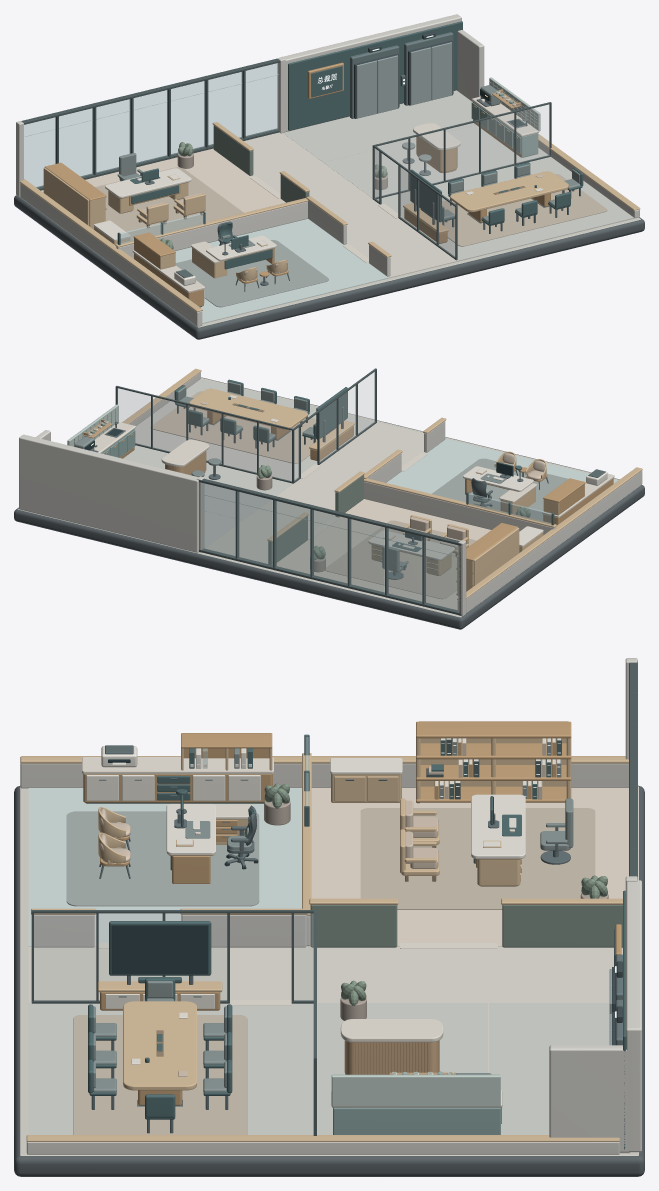
The model's file is executive.glb.
3 views of the same model, one above another, from view 1: azimuth 30°, elevation 25°; view 2: azimuth 150°, elevation 25°; view 3: azimuth 270°, elevation 25° (orthographic). The views are drawn at different scales.
Visible parts, largest first — view 1: OfficeSurface_34, OfficeSurface_14, OfficeSurface_15, OfficeSurface_01, OfficeOccluder_12, OfficeSurface_22, OfficeSurface_44, OfficeOccluder_11, OfficeOccluder_55, OfficeSurface_18, OfficeSurface_58, OfficeSurface_24 (+32 smaller); view 2: OfficeOccluder_12, OfficeSurface_01, OfficeSurface_14, OfficeSurface_15, OfficeSurface_34, OfficeSurface_22, OfficeOccluder_11, OfficeSurface_20, OfficeSurface_44, OfficeSurface_24, OfficeSurface_13, OfficeSurface_18 (+32 smaller); view 3: OfficeSurface_34, OfficeSurface_15, OfficeSurface_22, OfficeSurface_14, OfficeOccluder_12, OfficeSurface_01, OfficeSurface_24, OfficeSurface_20, OfficeSurface_13, OfficeSurface_23, OfficeSurface_44, OfficeSurface_45 (+21 smaller).
Boxes of the visible parts, x1,y1,x2,y2 form: OfficeSurface_34: (283,90,634,261); OfficeSurface_14: (20,122,640,311); OfficeSurface_15: (202,125,476,323); OfficeSurface_01: (14,195,644,339); OfficeOccluder_12: (16,14,484,276); OfficeSurface_22: (95,167,607,246); OfficeSurface_44: (175,219,389,323); OfficeOccluder_11: (21,58,551,258); OfficeOccluder_55: (288,21,462,130); OfficeSurface_18: (117,66,583,269); OfficeSurface_58: (356,42,452,118); OfficeSurface_24: (44,62,550,306); OfficeOccluder_12: (19,421,555,616); OfficeSurface_01: (14,377,644,629); OfficeSurface_14: (122,368,642,599); OfficeSurface_15: (136,422,425,563); OfficeSurface_34: (123,379,374,547); OfficeSurface_22: (150,391,476,599); OfficeOccluder_11: (115,368,461,615); OfficeSurface_20: (276,499,491,609); OfficeSurface_44: (386,438,617,493); OfficeSurface_24: (207,411,613,594); OfficeSurface_13: (129,372,642,612); OfficeSurface_18: (174,379,554,551); OfficeSurface_34: (28,1003,609,1134); OfficeSurface_15: (28,946,630,1153); OfficeSurface_22: (73,808,595,1134); OfficeSurface_14: (20,721,628,1141); OfficeOccluder_12: (34,658,641,1152); OfficeSurface_01: (14,785,644,1176); OfficeSurface_24: (83,721,621,1105); OfficeSurface_20: (307,788,628,946); OfficeSurface_13: (20,763,628,1154); OfficeSurface_23: (86,738,561,1074); OfficeSurface_44: (28,788,301,946); OfficeSurface_45: (66,811,259,906).
Bounding box in the file's own units: 18.7 × 3.43 × 13.3.
